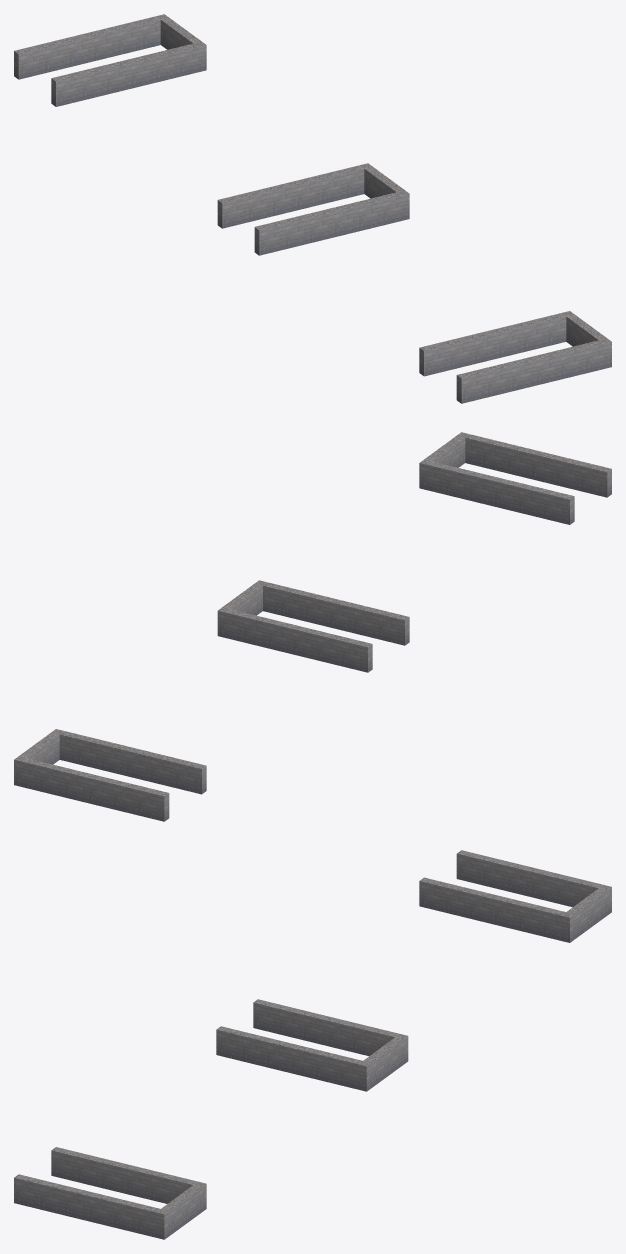
Rendered from Station03Under_Border.FBX.
3 renders of one model, top to bottom at view 1: azimuth 30°, elevation 25°; view 2: azimuth 150°, elevation 25°; view 3: azimuth 330°, elevation 25°, orthographic.
Visible parts, largest first — view 1: Station03Under_Border; view 2: Station03Under_Border; view 3: Station03Under_Border.
Boxes of the visible parts, x1,y1,x2,y2 form: Station03Under_Border: [14, 14, 611, 403]; Station03Under_Border: [14, 432, 611, 821]; Station03Under_Border: [14, 850, 611, 1239].
Bounding box in the file's own units: 8055 × 1300 × 41483.
